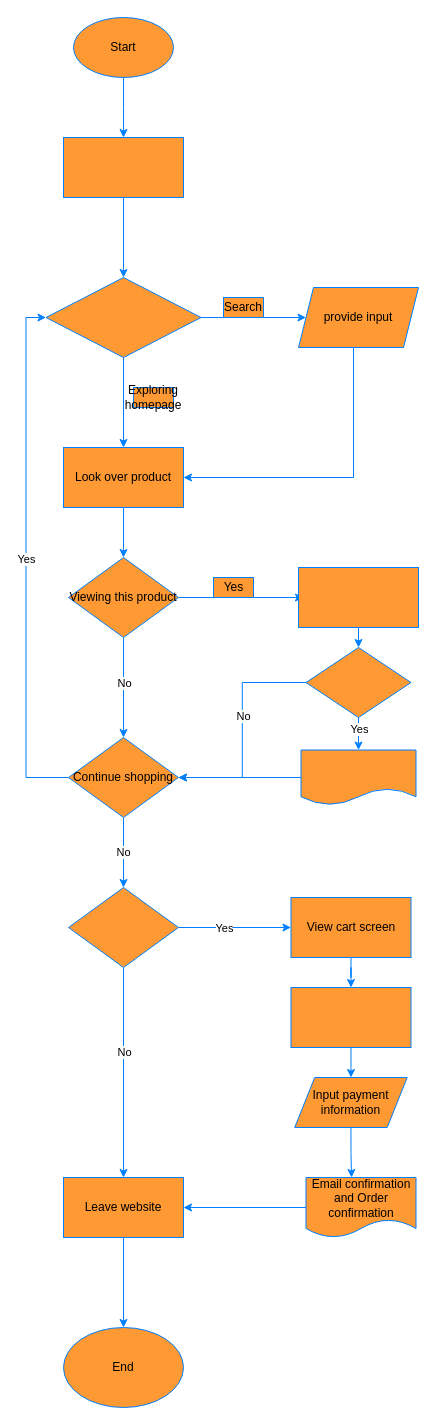
This 436x1425 diagram has some shape labels left out. The centre of each missing label's shape, as x and y in pixels:
Add to cart: point (358, 682)
Added to cart confirmation: point (358, 777)
Check out: point (123, 927)
Open product's Webpage: point (358, 597)
Searching/Explore Homepage: point (123, 317)
User enter website: point (123, 167)
View payment: point (350, 1017)
